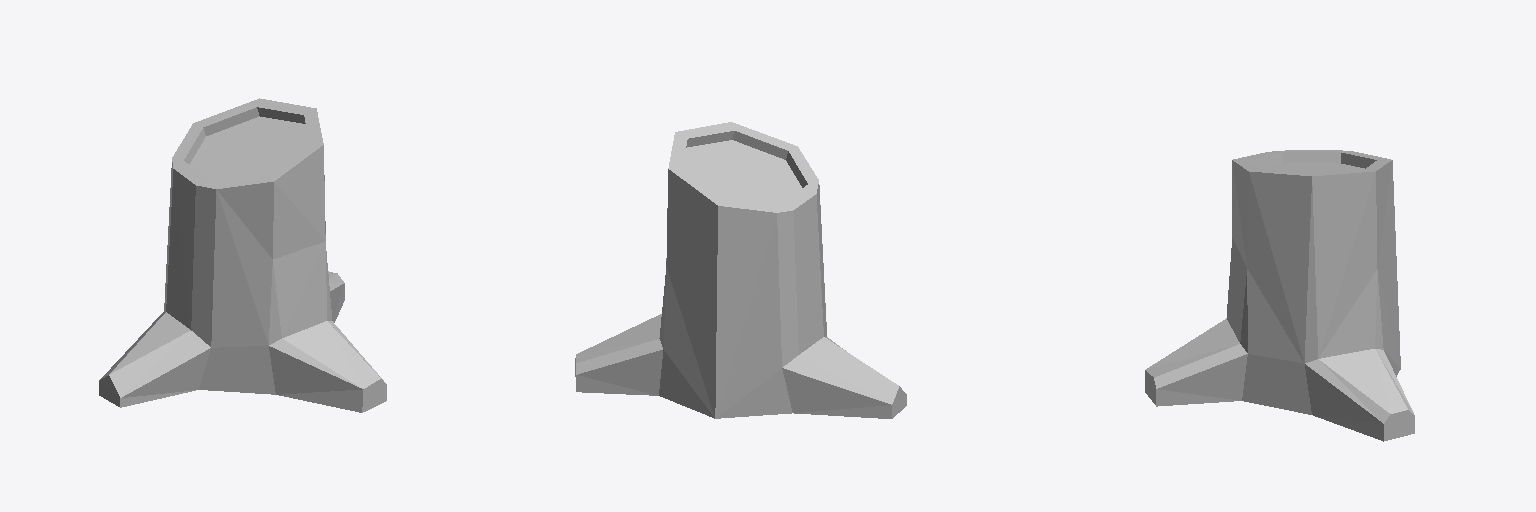
The model's file is _12_tree.obj.
The picture shows the model from 3 angles: view 1: azimuth 30°, elevation 25°; view 2: azimuth 150°, elevation 25°; view 3: azimuth 270°, elevation 25°; orthographic projection.
Visible parts, largest first — view 1: _12_tree_Cylinder.005; view 2: _12_tree_Cylinder.005; view 3: _12_tree_Cylinder.005.
Part boxes in pixels (bbox=[...]): _12_tree_Cylinder.005: bbox=[99, 98, 386, 412]; _12_tree_Cylinder.005: bbox=[575, 122, 906, 418]; _12_tree_Cylinder.005: bbox=[1145, 150, 1414, 441].
Size of the model in its own units: 0.4567 by 0.3631 by 0.3804.